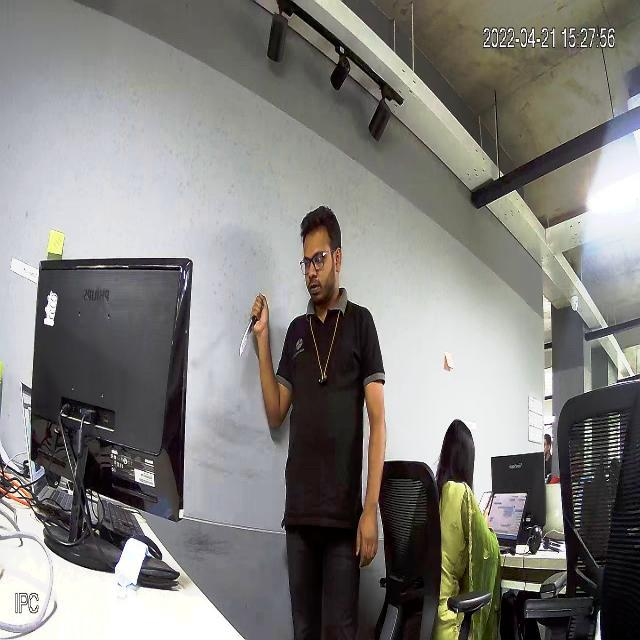Knife: (234, 291, 273, 358)
